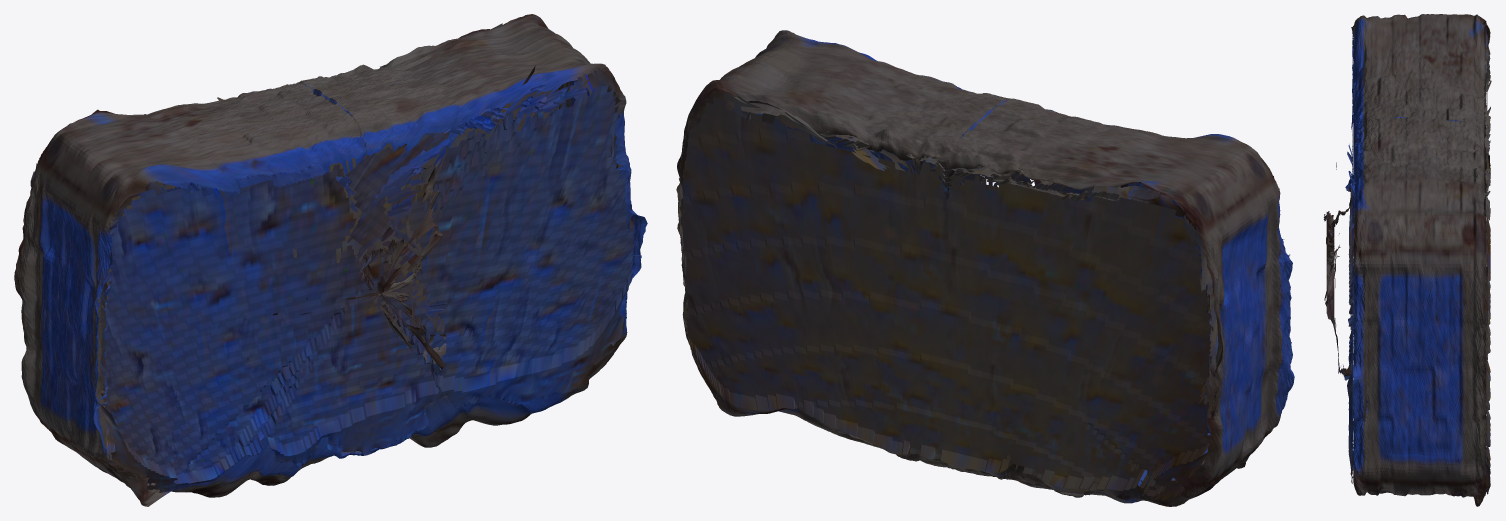
The model's file is snap48_mesh.glb.
3 views of the same model, side by side, from view 1: azimuth 30°, elevation 25°; view 2: azimuth 150°, elevation 25°; view 3: azimuth 270°, elevation 25° (orthographic). The views are drawn at different scales.
Visible parts, largest first — view 1: fill, ipn; view 2: fill, ipn; view 3: ipn, fill.
Part boxes in pixels (x1,y1,x2,y2): fill: [22, 23, 641, 492]; ipn: [14, 14, 647, 506]; fill: [679, 33, 1291, 501]; ipn: [676, 30, 1294, 506]; ipn: [1326, 14, 1486, 506]; fill: [1323, 23, 1491, 494].
Bounding box in the file's own units: 1.95 × 1.25 × 0.5778.
2 materials, 1 textured.
